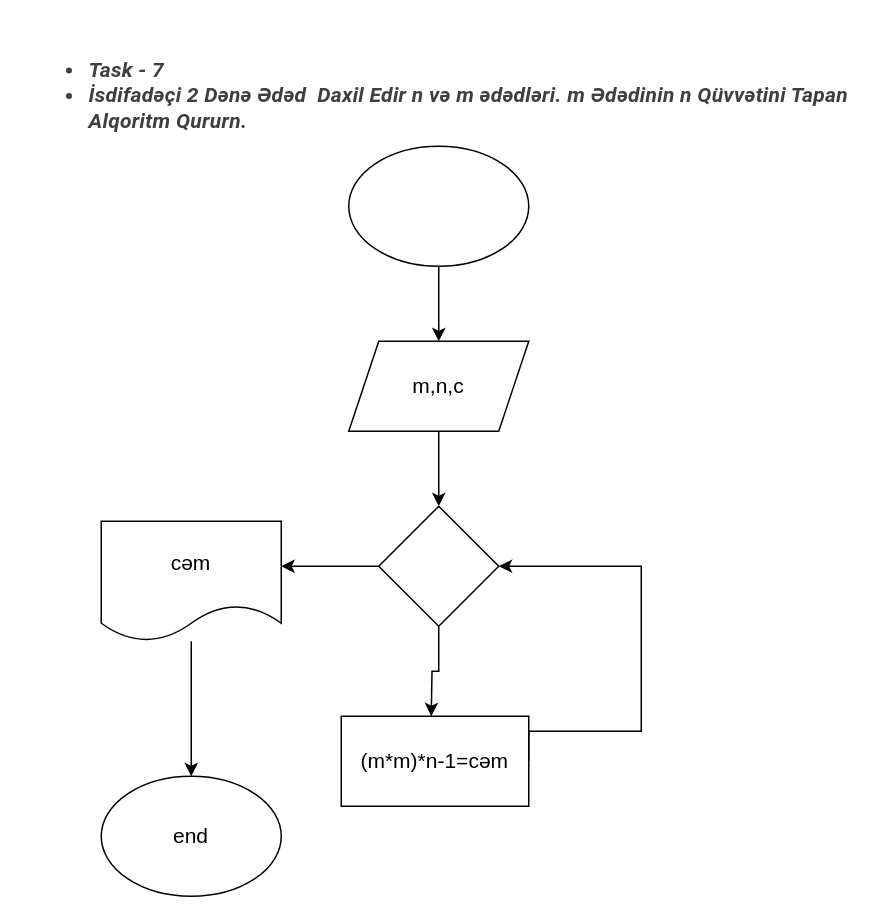
This 876x923 diagram has some shape labels left out. Each missing label, with the centre of its shape:
"1<n" goes at (x=438, y=565).
"start" goes at (x=438, y=205).
